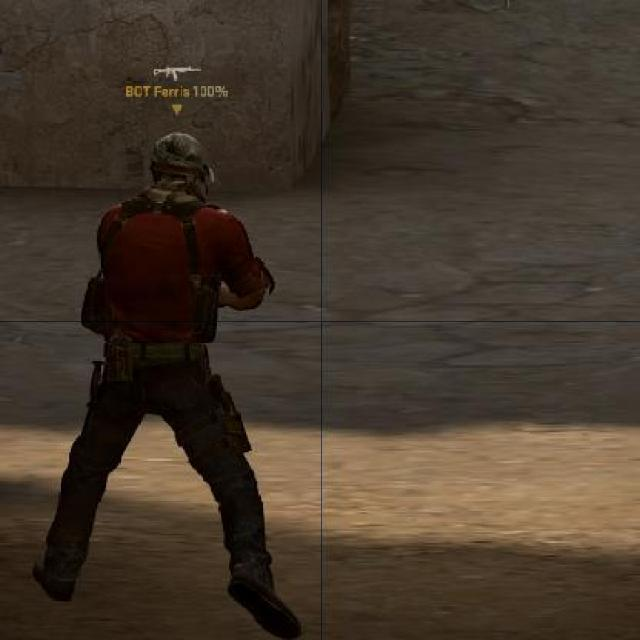T: (45, 122, 302, 638)
T_HEAD: (146, 129, 216, 204)
